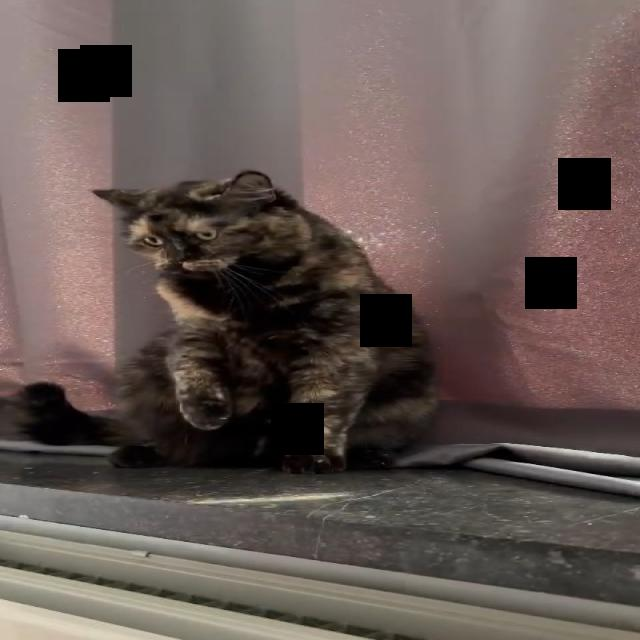authorized: (89, 168, 440, 475)
